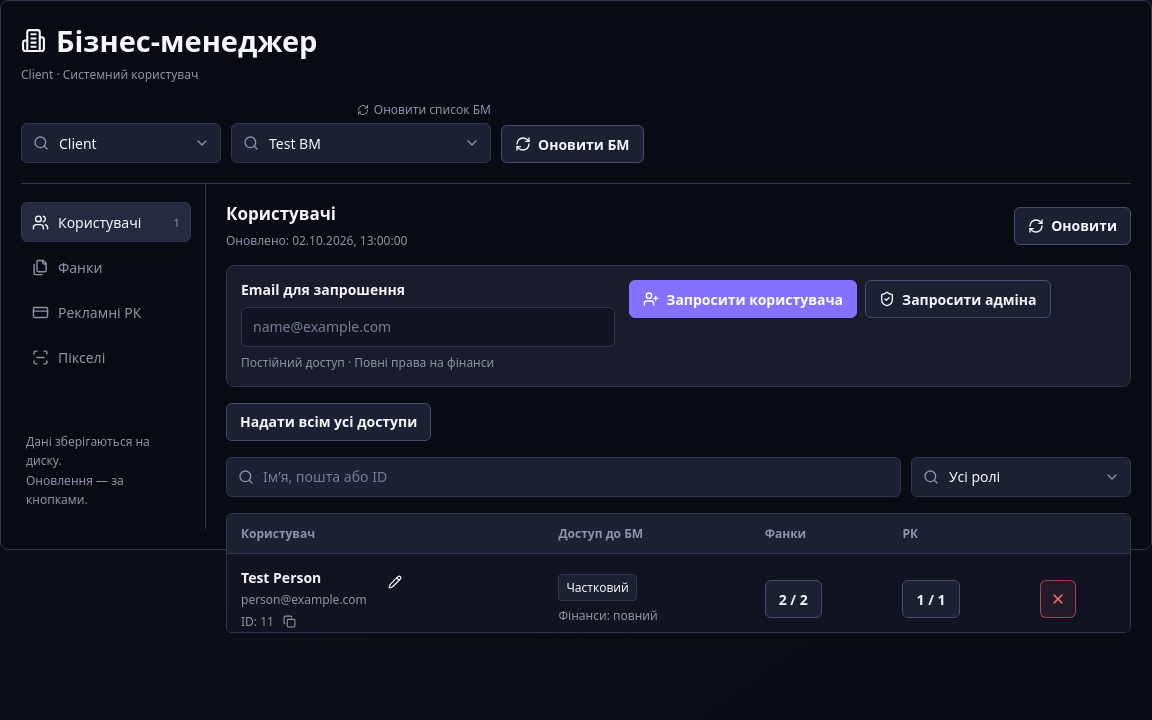
Scenario: БМ › показує всі фанки БМ для клієнта system
Click the button "Фанки". click: coordinates (106, 267)
box: [21,247,191,287]
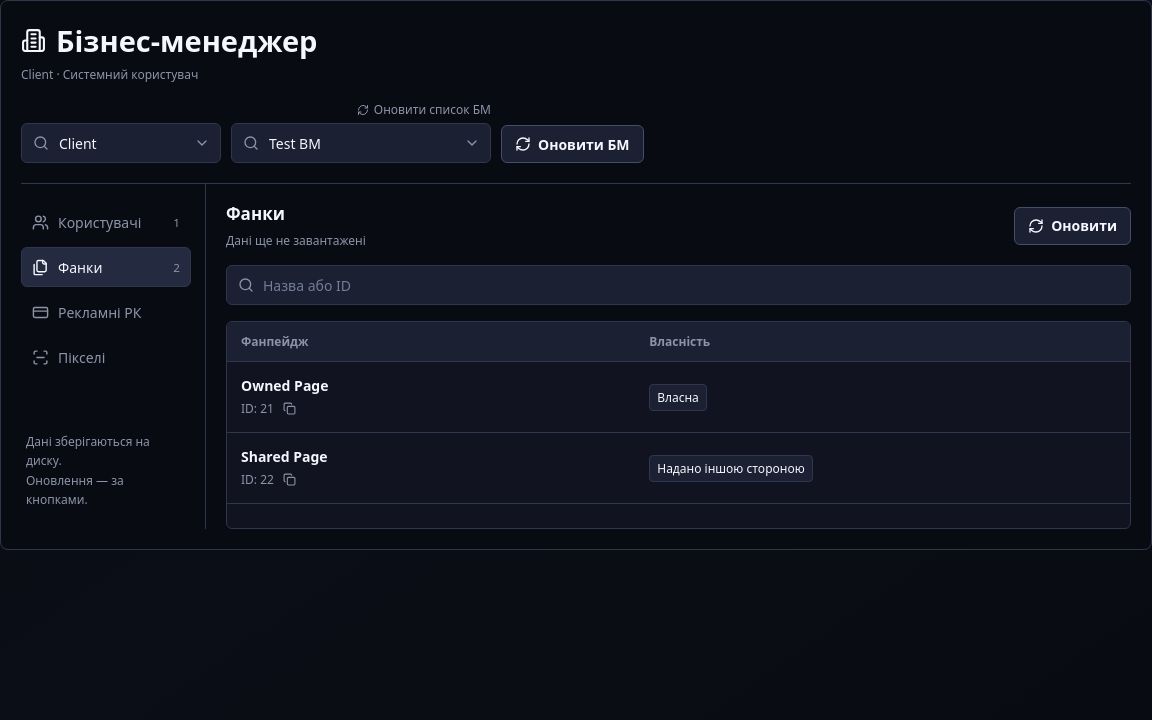
expect the text "Owned Page" is shown: met, box [241,376,328,395]
expect the text "Shared Page" is shown: met, box [241,447,328,466]
expect the text "Власна" is shown: met, box [649,384,707,410]
Type "22" into the field labelled "Назва або ID". click: coordinates (691, 285)
box: [263,266,1119,304]
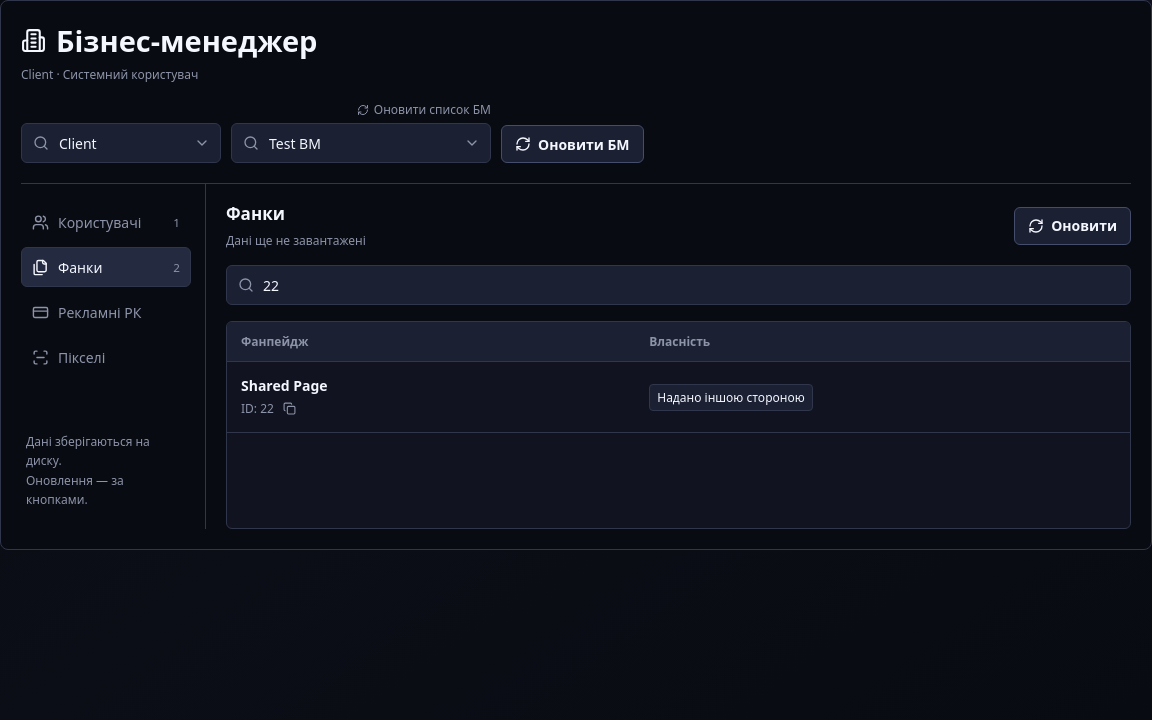
expect the text "Shared Page" is shown: met, box [241,376,328,395]
expect the text "Owned Page" is gone: met
